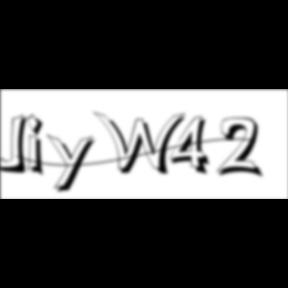2: (218, 117, 268, 181)
4: (170, 115, 216, 179)
J: (0, 114, 34, 176)
W: (93, 110, 191, 178)
i: (27, 112, 51, 180)
y: (47, 132, 101, 196)
